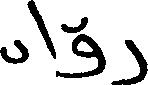X: (58, 12, 105, 82), (30, 0, 56, 81), (0, 0, 28, 68), (115, 35, 147, 84)
